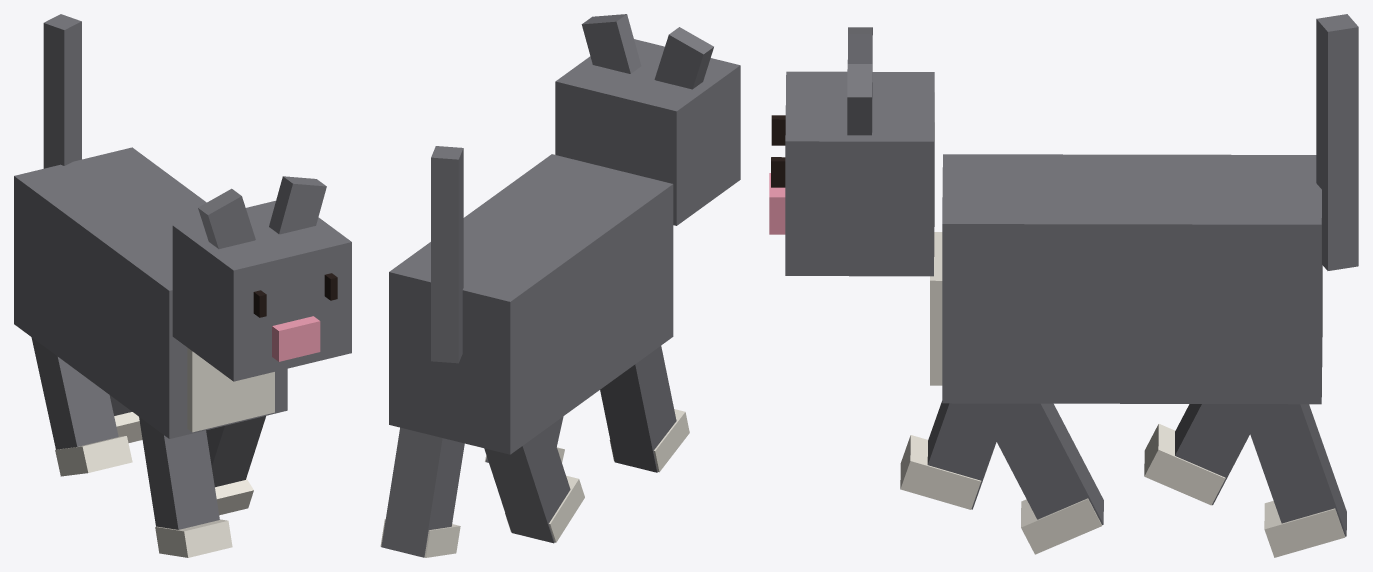
File: pet_hendersons.glb
3 views of the same model, side by side, from view 1: azimuth 30°, elevation 25°; view 2: azimuth 150°, elevation 25°; view 3: azimuth 270°, elevation 25° (orthographic). The views are drawn at different scales.
Parts seen in each view (by area): view 1: Box1, Box3, Box14, Box9, Box12, Box2, Box10, Box7, Box8, Box15, Box13, Box6 (+2 smaller); view 2: Box1, Box3, Box16, Box9, Box14, Box12, Box7, Box8, Box13, Box15, Box17; view 3: Box1, Box3, Box9, Box10, Box16, Box12, Box14, Box13, Box15, Box17, Box11, Box7 (+3 smaller).
Boxes of the visible parts, box(x1,y1,x2,y2) form: Box1: box(14, 147, 287, 438); Box3: box(172, 200, 351, 381); Box14: box(139, 417, 219, 529); Box9: box(43, 14, 81, 168); Box12: box(31, 337, 118, 449); Box2: box(187, 347, 274, 432); Box10: box(206, 416, 265, 487); Box7: box(269, 176, 326, 234); Box8: box(198, 188, 255, 248); Box15: box(155, 519, 232, 557); Box13: box(55, 436, 132, 476); Box6: box(272, 316, 320, 361); Box1: box(389, 154, 673, 454); Box3: box(555, 39, 740, 225); Box16: box(381, 427, 464, 557); Box9: box(431, 146, 463, 363); Box14: box(600, 346, 676, 472); Box12: box(484, 426, 570, 543); Box7: box(581, 14, 641, 73); Box8: box(654, 27, 713, 89); Box13: box(505, 475, 584, 542); Box15: box(609, 409, 689, 472); Box17: box(380, 519, 460, 557); Box1: box(942, 154, 1322, 404); Box3: box(785, 71, 934, 276); Box9: box(1316, 14, 1358, 270); Box10: box(977, 403, 1103, 524); Box16: box(1239, 404, 1346, 536); Box12: box(1175, 404, 1249, 505); Box14: box(927, 401, 996, 509); Box13: box(1144, 424, 1225, 505); Box15: box(900, 435, 981, 509); Box17: box(1264, 501, 1345, 557); Box11: box(1021, 498, 1102, 554); Box7: box(847, 64, 872, 135).
Bounding box in the file's own units: 0.1625 × 0.5335 × 0.5717.
